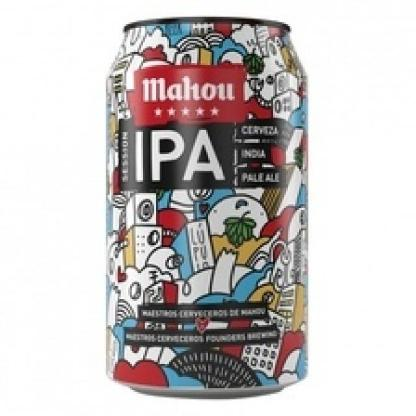Can: (102, 17, 310, 402)
